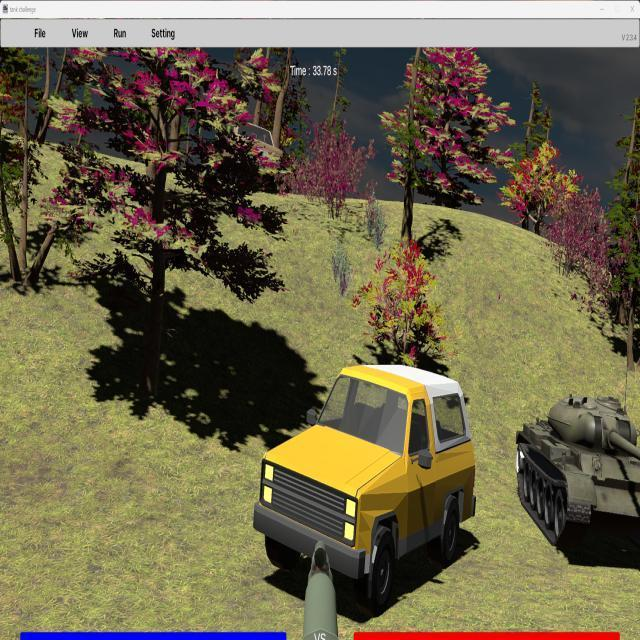Tank: (515, 394, 640, 551)
car: (253, 364, 477, 616)
